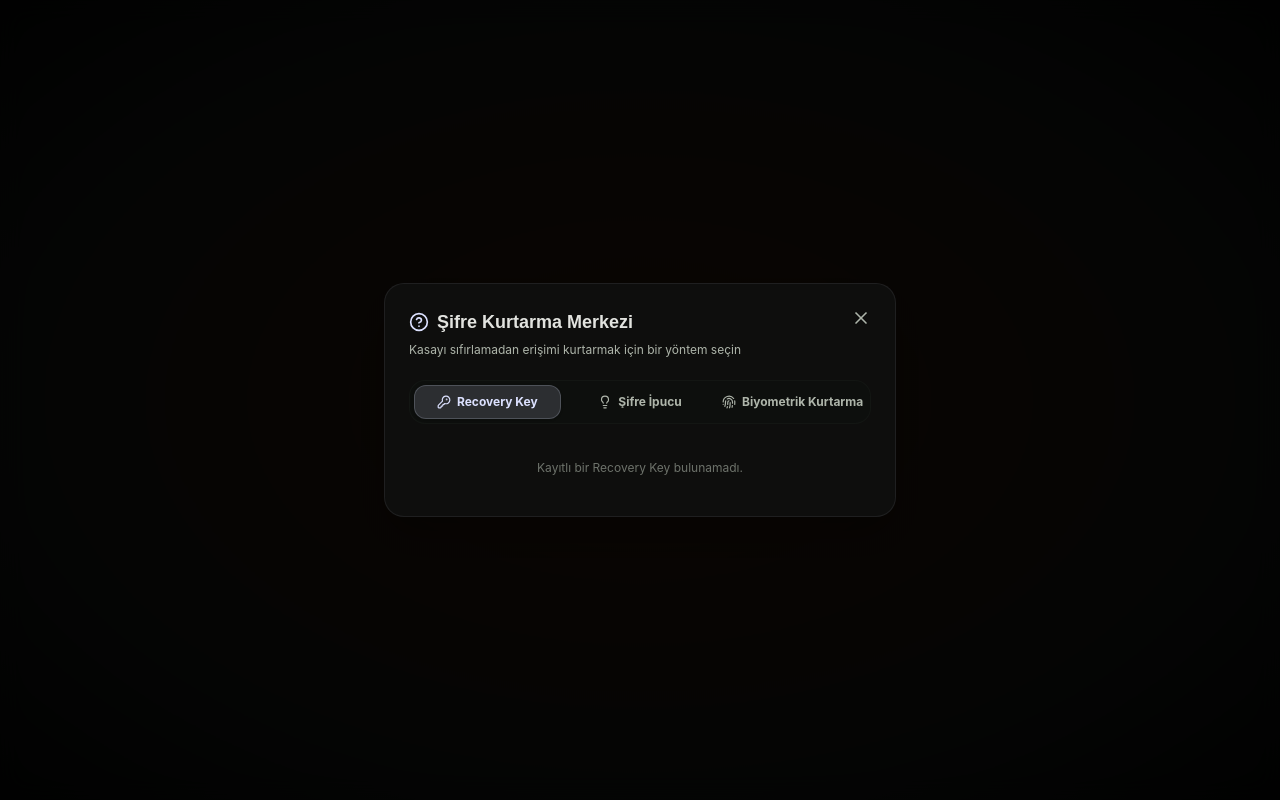
Test case: LockScreenRecoveryModal › renders modal tabs and handles tab switching
Expected: the button with test id "lock-recovery-tab-key" is shown, [414,385,561,419]
# Switch to hint tab
Click the button with test id "lock-recovery-tab-hint" at (640, 402), box [567,385,713,419]
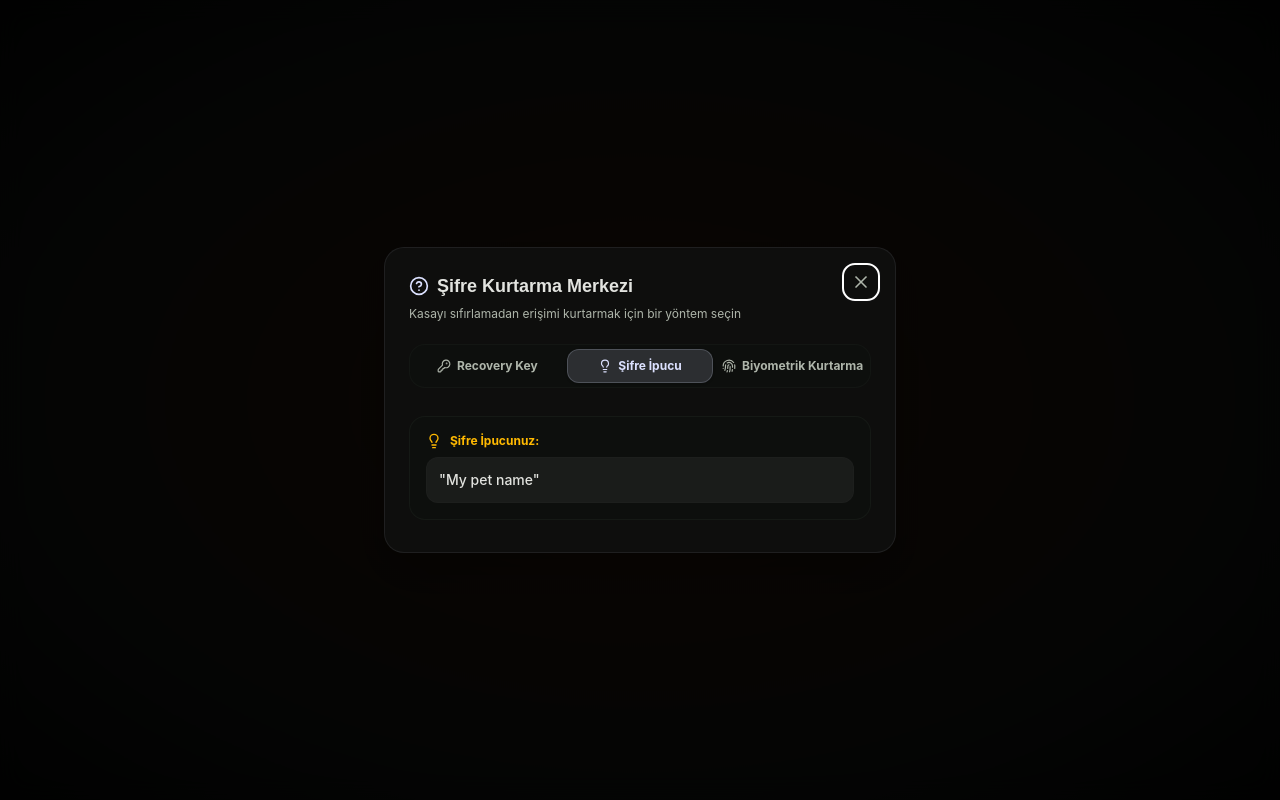
Expected: the element with test id "lock-recovery-hint-content" is shown, [409,416,871,520]
